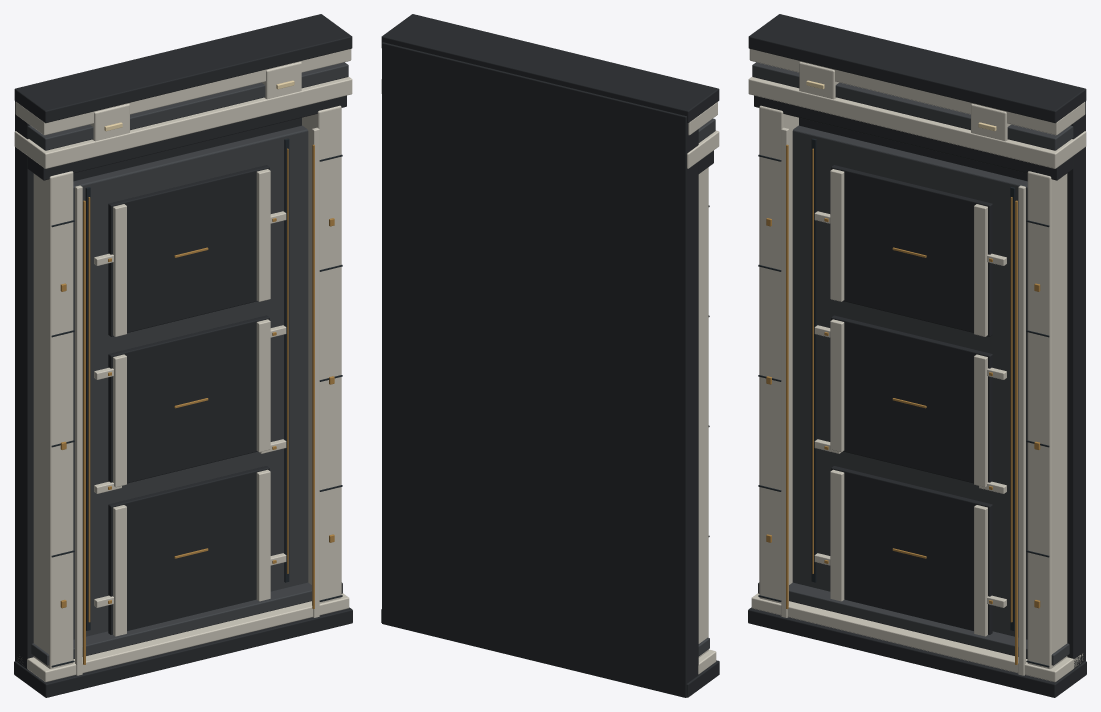
Rendered from SM_Aurelion_KIT_Z12BerthBulkheadPlain.fbx.
The picture shows the model from 3 angles, left to right: view 1: azimuth 30°, elevation 25°; view 2: azimuth 150°, elevation 25°; view 3: azimuth 330°, elevation 25°; orthographic projection.
Visible parts, largest first — view 1: SM_Aurelion_KIT_Z12BerthBulkheadPlain; view 2: SM_Aurelion_KIT_Z12BerthBulkheadPlain; view 3: SM_Aurelion_KIT_Z12BerthBulkheadPlain.
Part boxes in pixels (x1,y1,x2,y2): SM_Aurelion_KIT_Z12BerthBulkheadPlain: (14, 14, 352, 697); SM_Aurelion_KIT_Z12BerthBulkheadPlain: (381, 14, 719, 697); SM_Aurelion_KIT_Z12BerthBulkheadPlain: (748, 14, 1086, 697).
Size of the model in its own units: 415 by 78.15 by 757.
